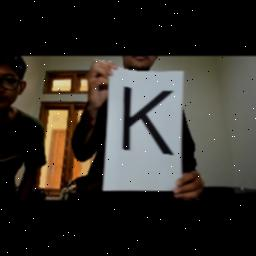k: (118, 84, 180, 160)
